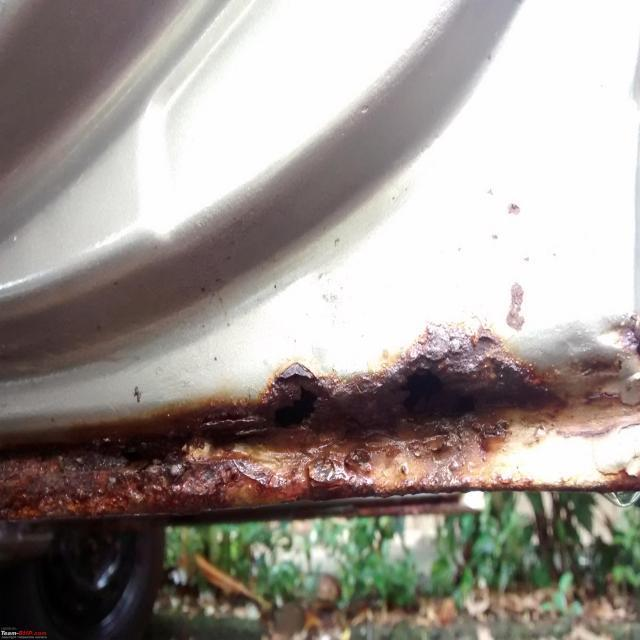corrosion: (1, 308, 640, 527), (502, 280, 530, 334), (509, 190, 525, 222)
